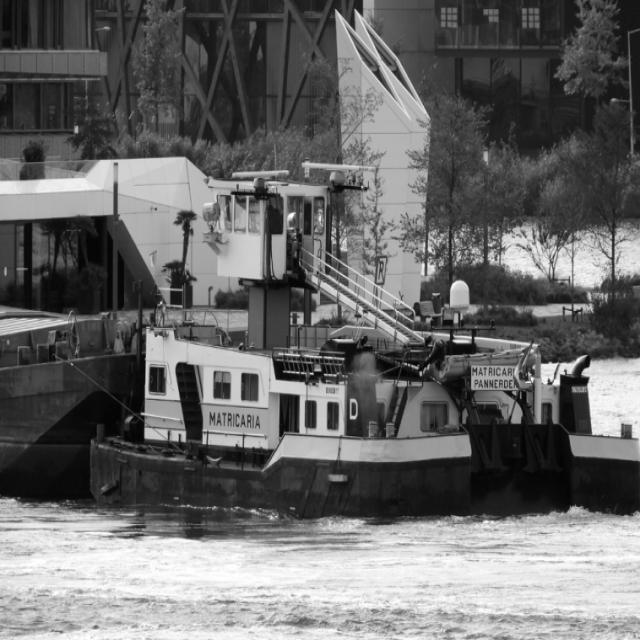tugboat: (82, 141, 640, 538)
